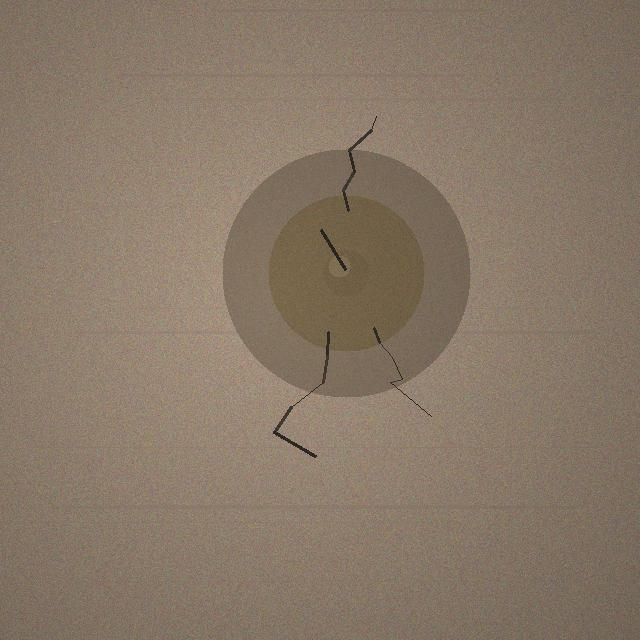crack: (222, 149, 470, 397)
